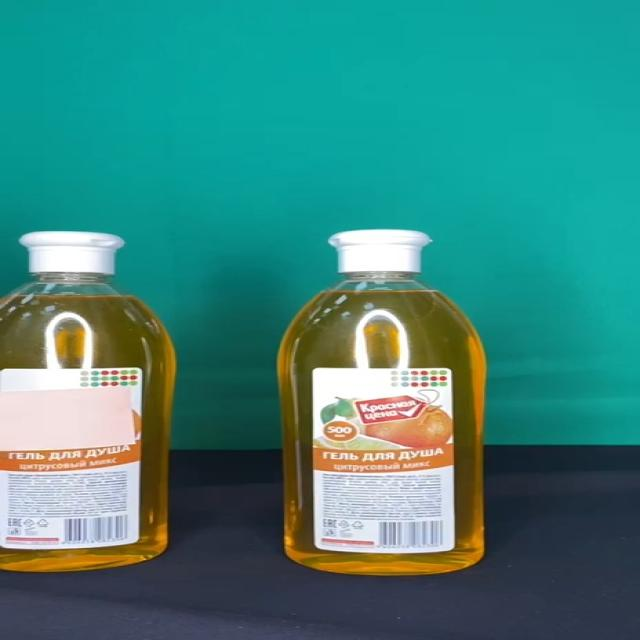Bottle: (276, 230, 487, 576), (0, 231, 179, 572)
Cap: (327, 230, 432, 273), (19, 232, 124, 275)
